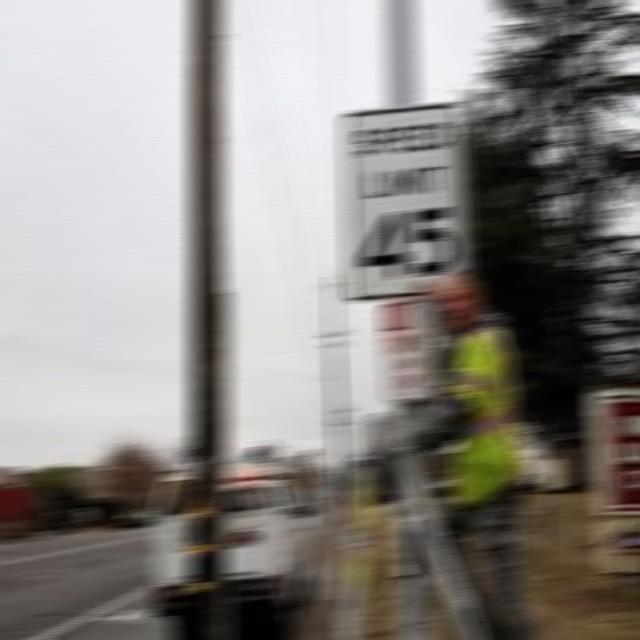speedLimit45: (341, 112, 472, 296)
